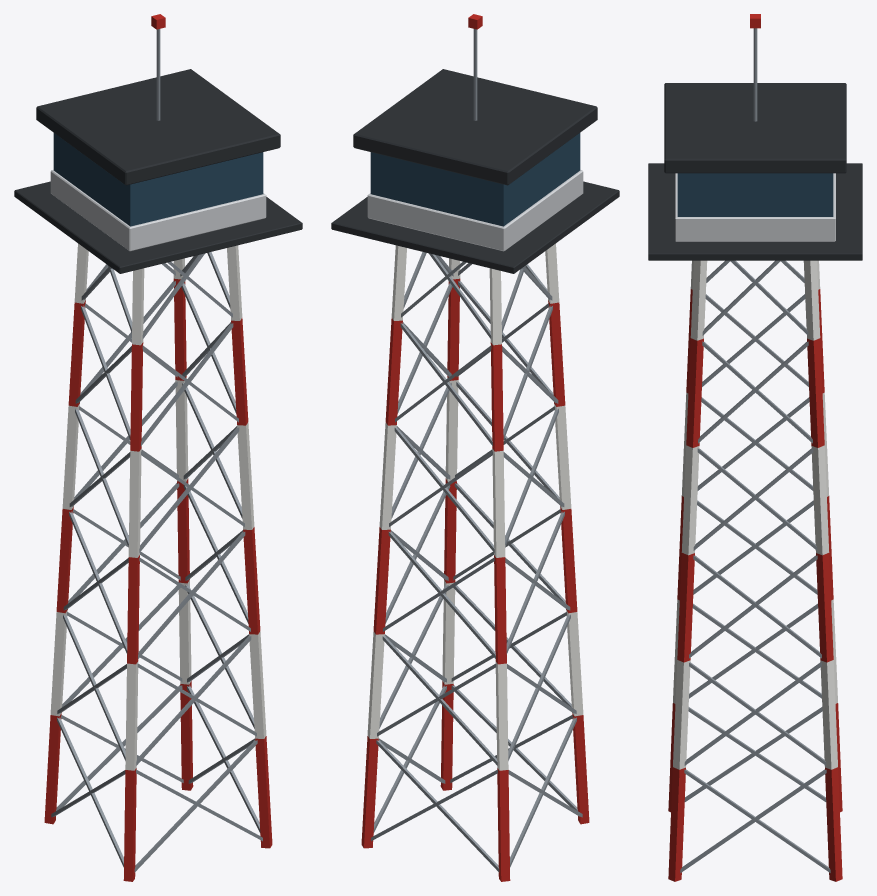
Rendered from Scenery_ObsTower.fbx.
3 renders of one model, left to right at view 1: azimuth 30°, elevation 25°; view 2: azimuth 150°, elevation 25°; view 3: azimuth 270°, elevation 25°, orthographic.
Parts seen in each view (by area): view 1: Scenery_ObsTower; view 2: Scenery_ObsTower; view 3: Scenery_ObsTower.
Part boxes in pixels (left/top/right/bottom): Scenery_ObsTower: left=14, top=14, right=302, bottom=881; Scenery_ObsTower: left=331, top=14, right=619, bottom=881; Scenery_ObsTower: left=648, top=14, right=862, bottom=881.
Size of the model in its own units: 8 by 34.11 by 8.
